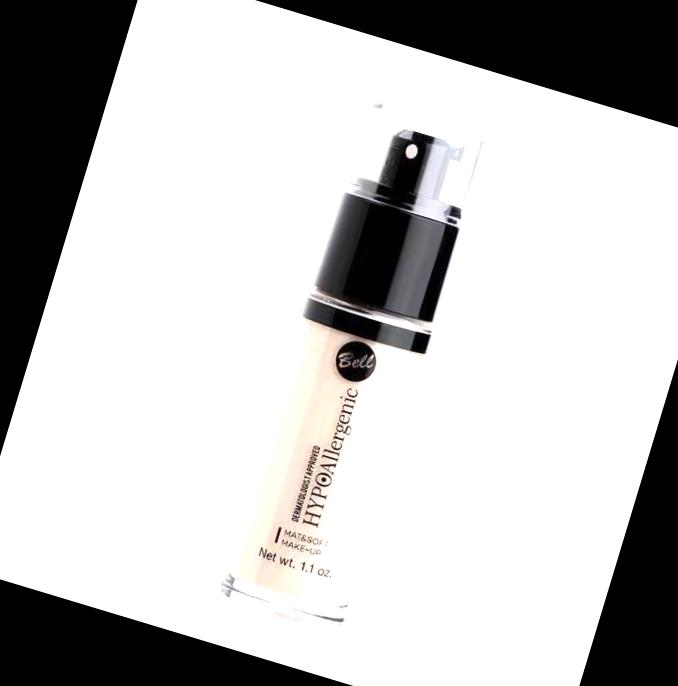cosmetic: (215, 97, 491, 637)
